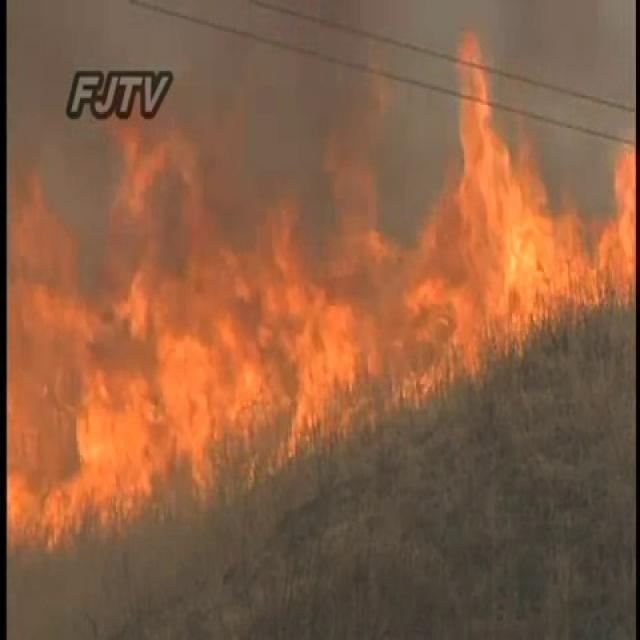Fire: (17, 51, 634, 528), (376, 279, 479, 416), (70, 372, 148, 506), (2, 453, 92, 546), (600, 132, 636, 298), (32, 474, 80, 550), (282, 398, 314, 468), (188, 443, 218, 496)
